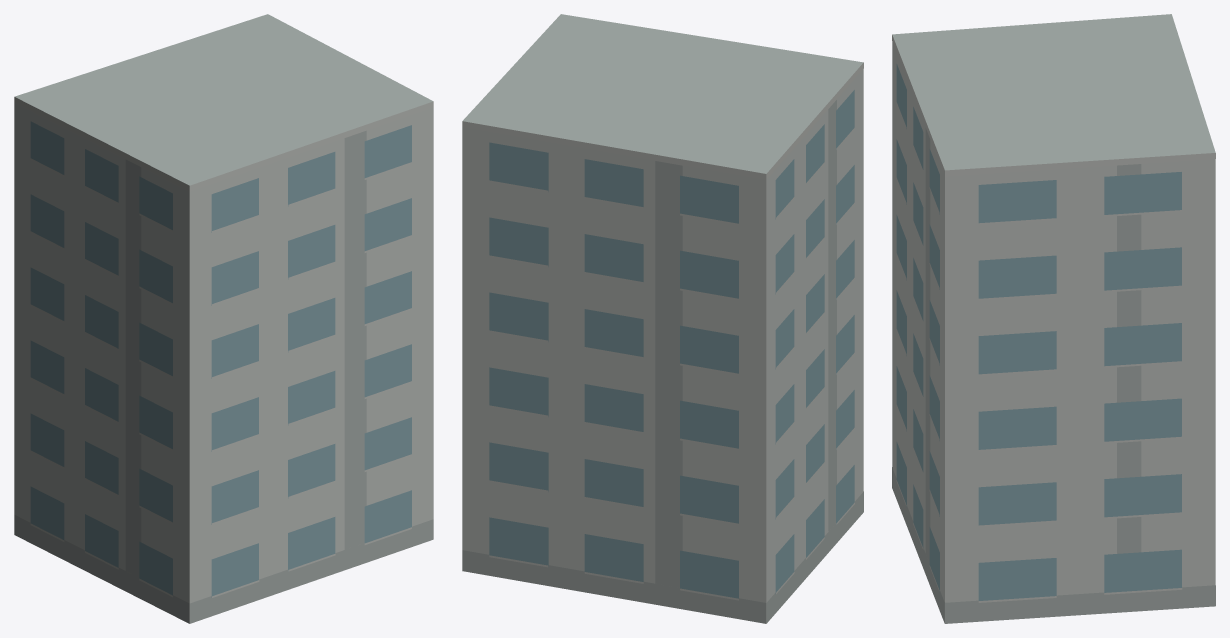
File: survey-upis-32750332.glb
3 views of the same model, side by side, from view 1: azimuth 30°, elevation 25°; view 2: azimuth 150°, elevation 25°; view 3: azimuth 270°, elevation 25° (orthographic). The views are drawn at different scales.
Parts seen in each view (by area): view 1: survey-upis-32750332.tmp; view 2: survey-upis-32750332.tmp; view 3: survey-upis-32750332.tmp.
Part boxes in pixels (x1,y1,x2,y2): survey-upis-32750332.tmp: [14, 14, 433, 623]; survey-upis-32750332.tmp: [462, 14, 863, 623]; survey-upis-32750332.tmp: [892, 14, 1215, 623].
Size of the model in its own units: 13.03 by 17.6 by 11.4.
